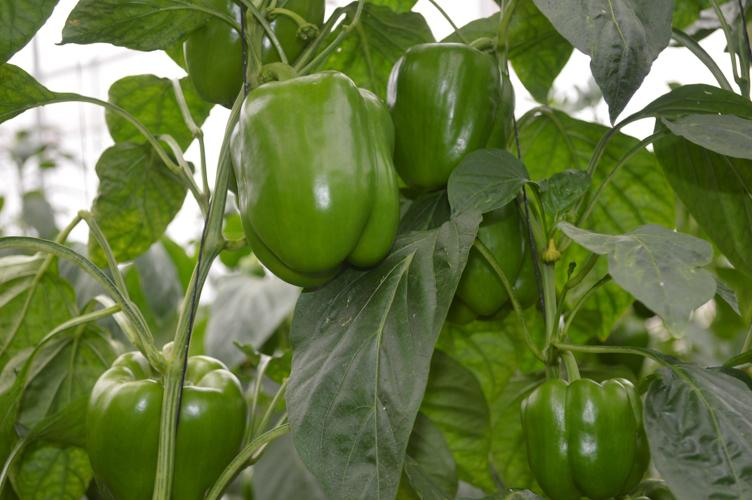BellPepper: (221, 71, 394, 285), (82, 345, 259, 494), (381, 34, 506, 194), (518, 376, 659, 499), (439, 200, 537, 327)
